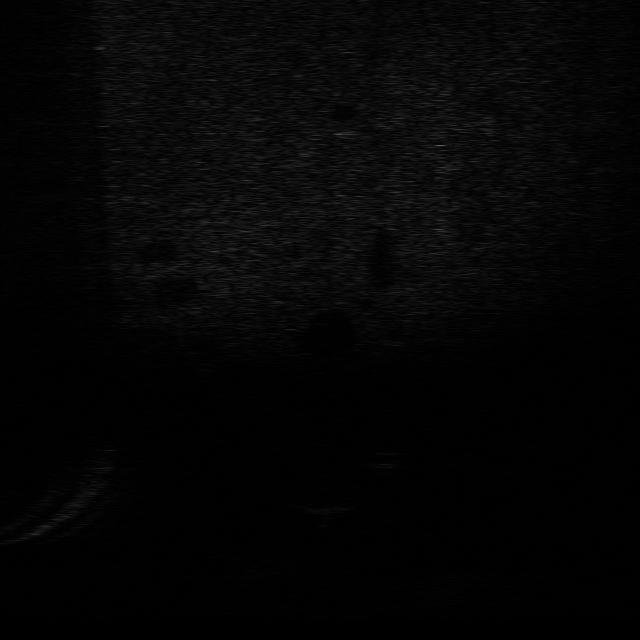ball: (359, 443, 406, 478)
square cage: (293, 491, 365, 524)
